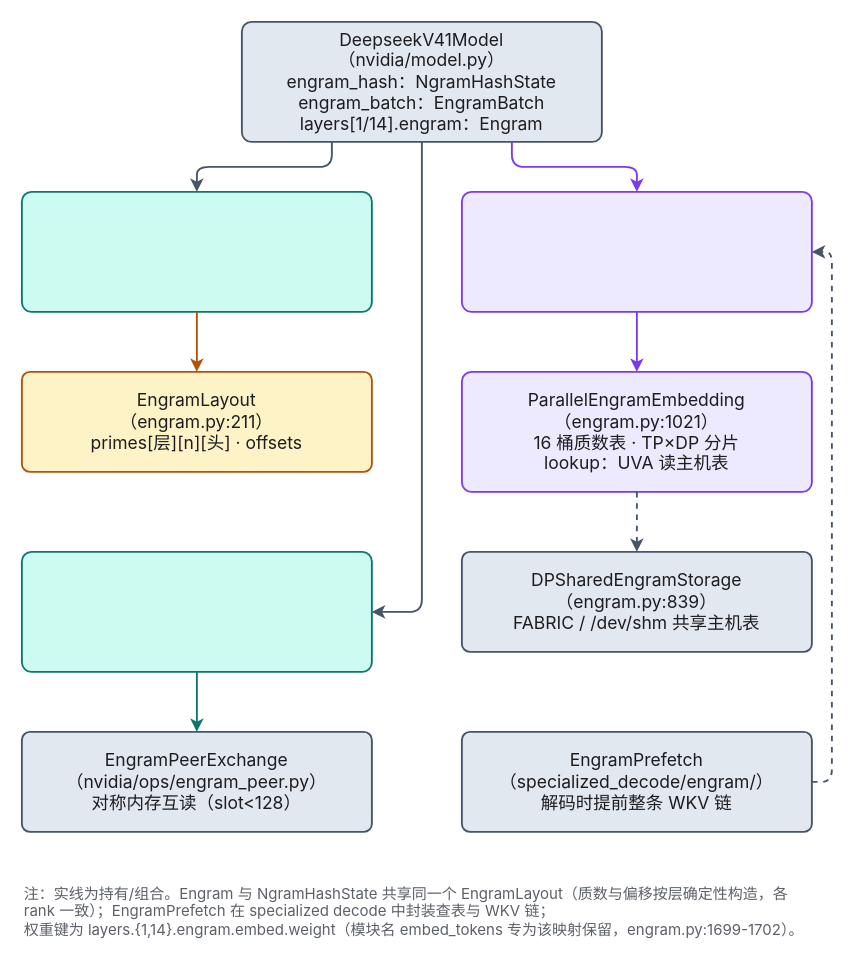
The diagram is 865 pixels wide and 974 high, and some of its shapes have lost their labels. Here are the shapes that lost their labels. From the top down, the centre of each, then its label:
At [196,251]: "NgramHashState （engram.py:426） token_map · multipliers hash_cache（V1 槽缓存）".
At [636,251]: "Engram（第 1/14 层各一） （engram.py:1664） embed_tokens · wkv q_weight · k_weight".
At [196,611]: "EngramBatch （engram.py:1539） 两层 WKV 输入一次交换 peer SHM / all_to_all → MXFP8".
